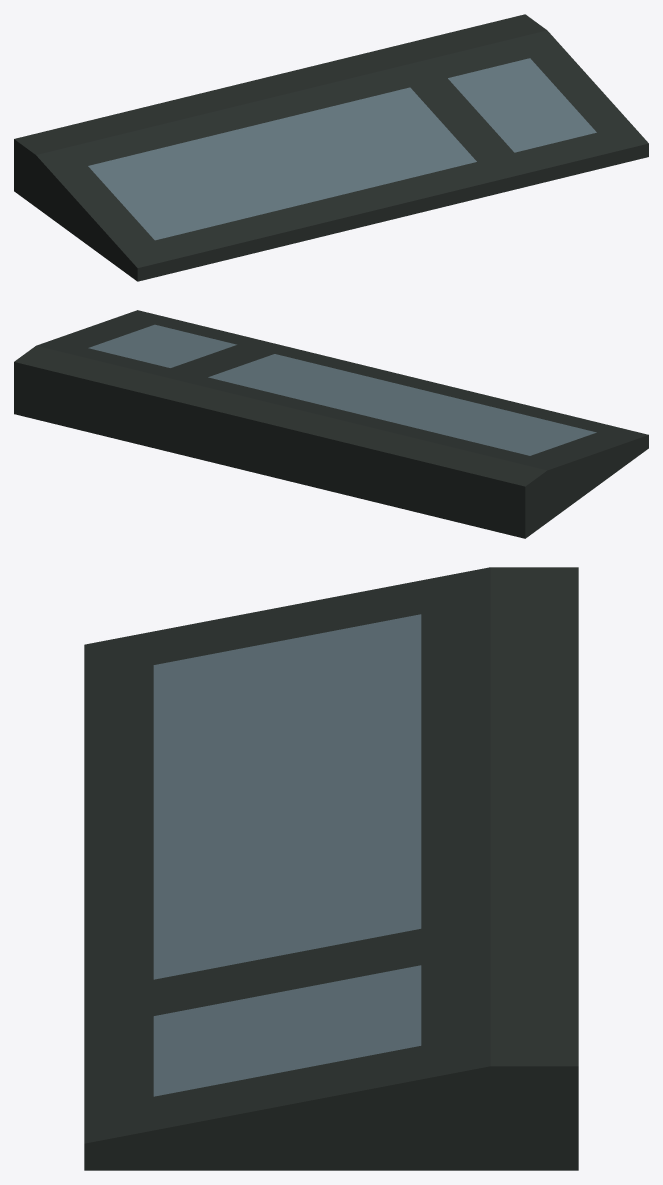
Rendered from computerKeyboard.fbx.
3 renders of one model, top to bottom at view 1: azimuth 30°, elevation 25°; view 2: azimuth 150°, elevation 25°; view 3: azimuth 270°, elevation 25°, orthographic. The views are drawn at different scales.
Parts seen in each view (by area): view 1: computerKeyboard.002; view 2: computerKeyboard.002; view 3: computerKeyboard.002.
Boxes of the visible parts, left/top/right/bottom form: computerKeyboard.002: left=14, top=14, right=648, bottom=281; computerKeyboard.002: left=14, top=310, right=648, bottom=538; computerKeyboard.002: left=84, top=567, right=578, bottom=1170.
Bounding box in the file's own units: 28.22 × 2.76 × 11.82.
